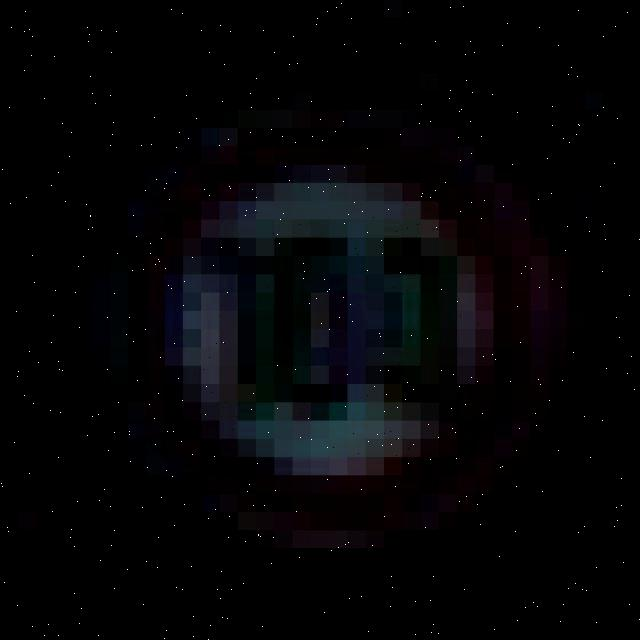Ograniczenie predkosci do 100: (134, 125, 542, 540)
